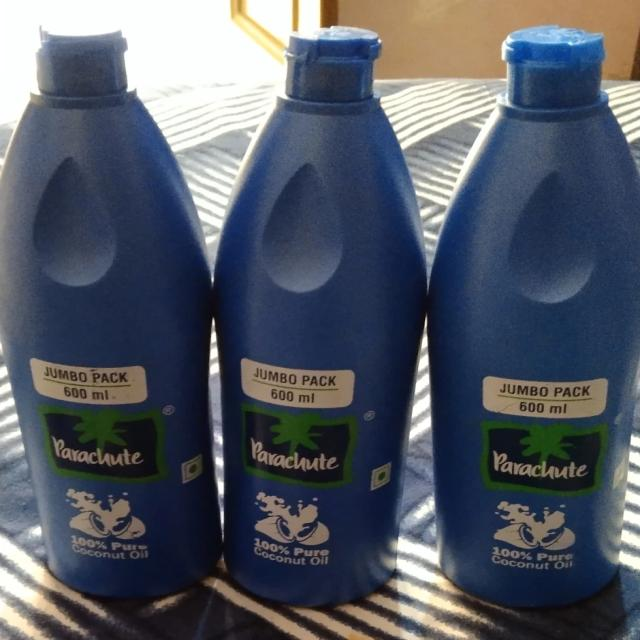parachute_oil: (205, 26, 433, 598), (2, 26, 206, 596), (444, 26, 633, 598)
